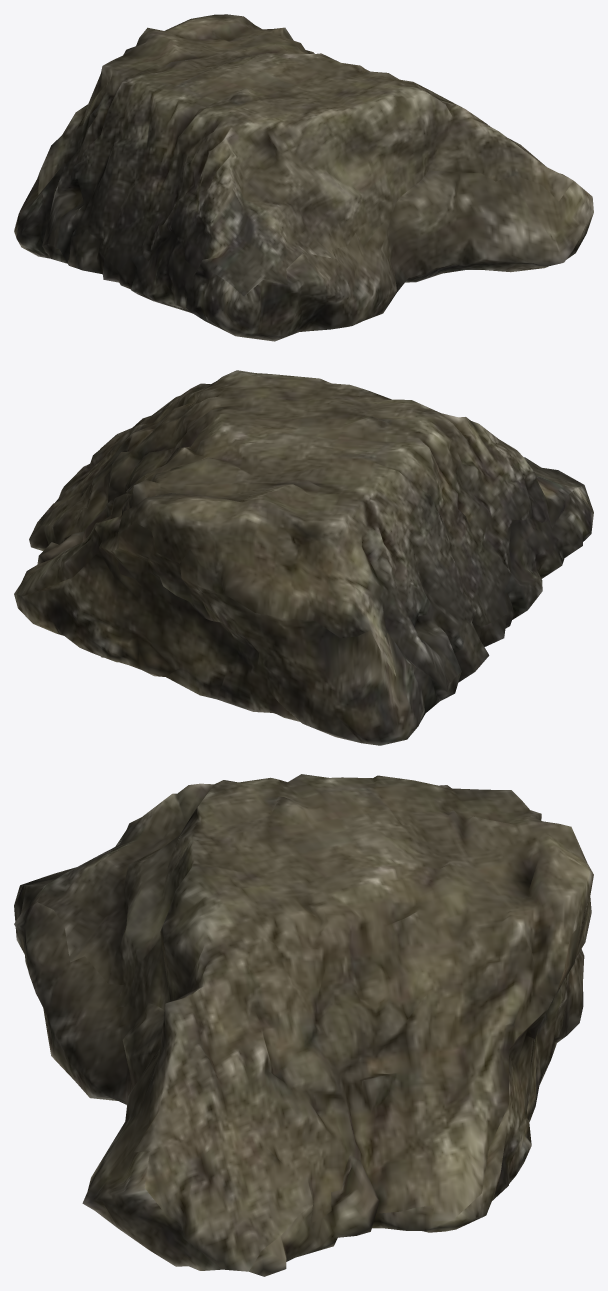
File: SM_RockMoss_B02.gltf
The picture shows the model from 3 angles, top to bottom: view 1: azimuth 30°, elevation 25°; view 2: azimuth 150°, elevation 25°; view 3: azimuth 270°, elevation 25°; orthographic projection. The views are drawn at different scales.
Visible parts, largest first — view 1: SM_RockMoss_B02; view 2: SM_RockMoss_B02; view 3: SM_RockMoss_B02.
Boxes of the visible parts, <box> form: SM_RockMoss_B02: <box>14,14,593,341</box>; SM_RockMoss_B02: <box>14,370,593,745</box>; SM_RockMoss_B02: <box>14,774,593,1276</box>.
Bounding box in the file's own units: 1.2 × 0.5262 × 0.9835.
1 material, 1 textured.
